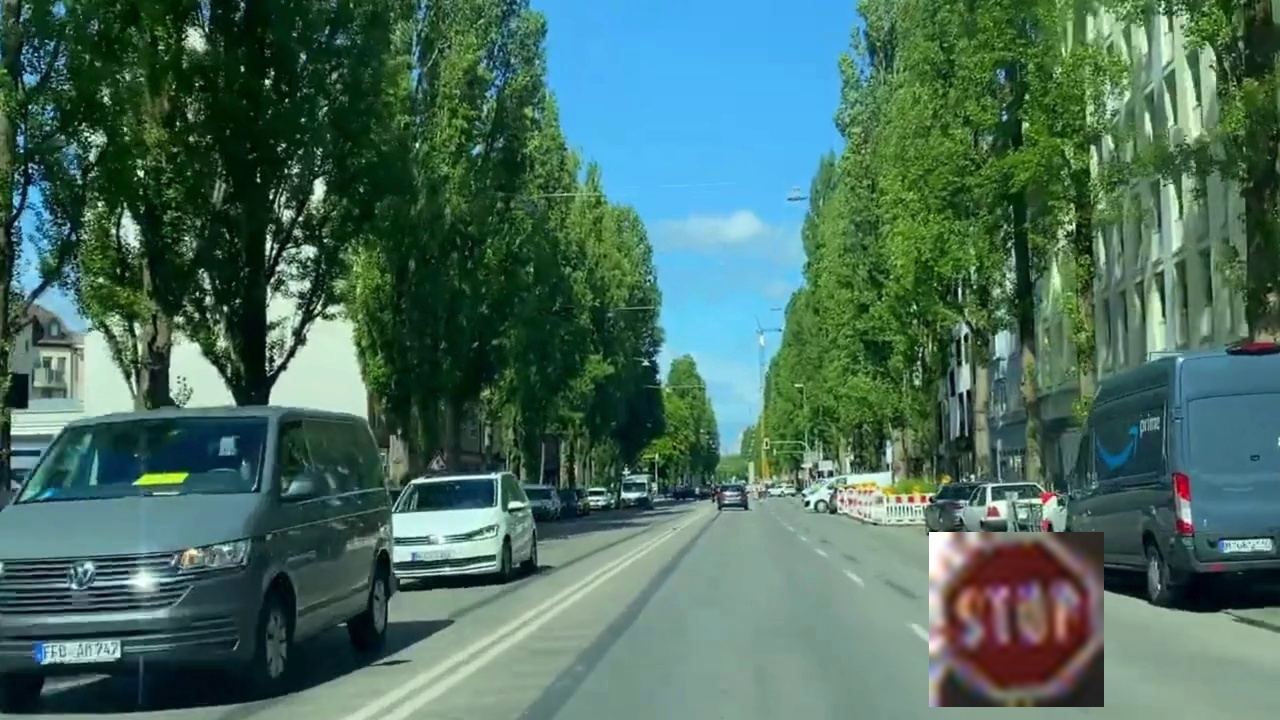Stop: (929, 532, 1104, 707)
